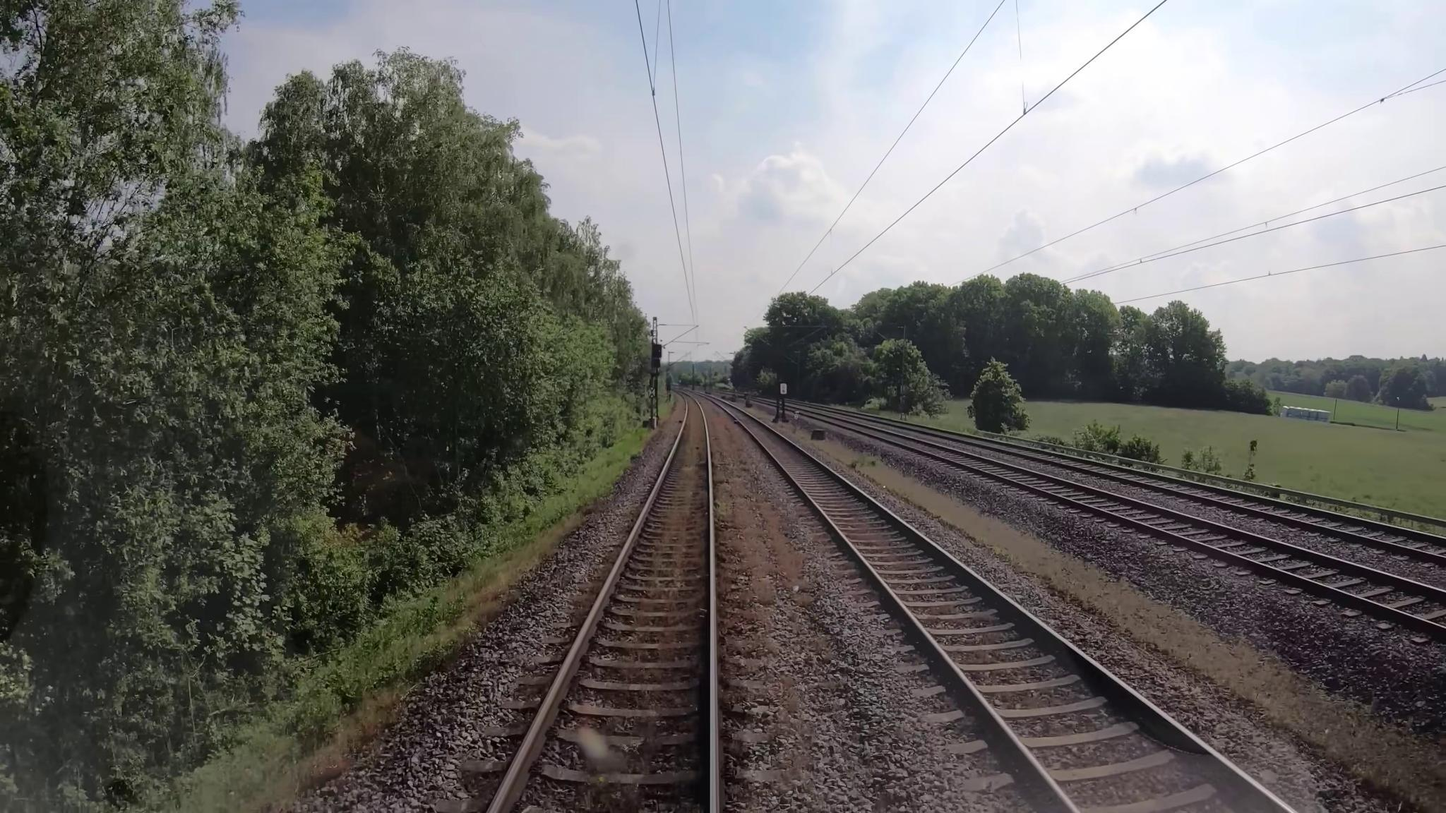Plant: (706, 404, 815, 616), (630, 399, 702, 653)
